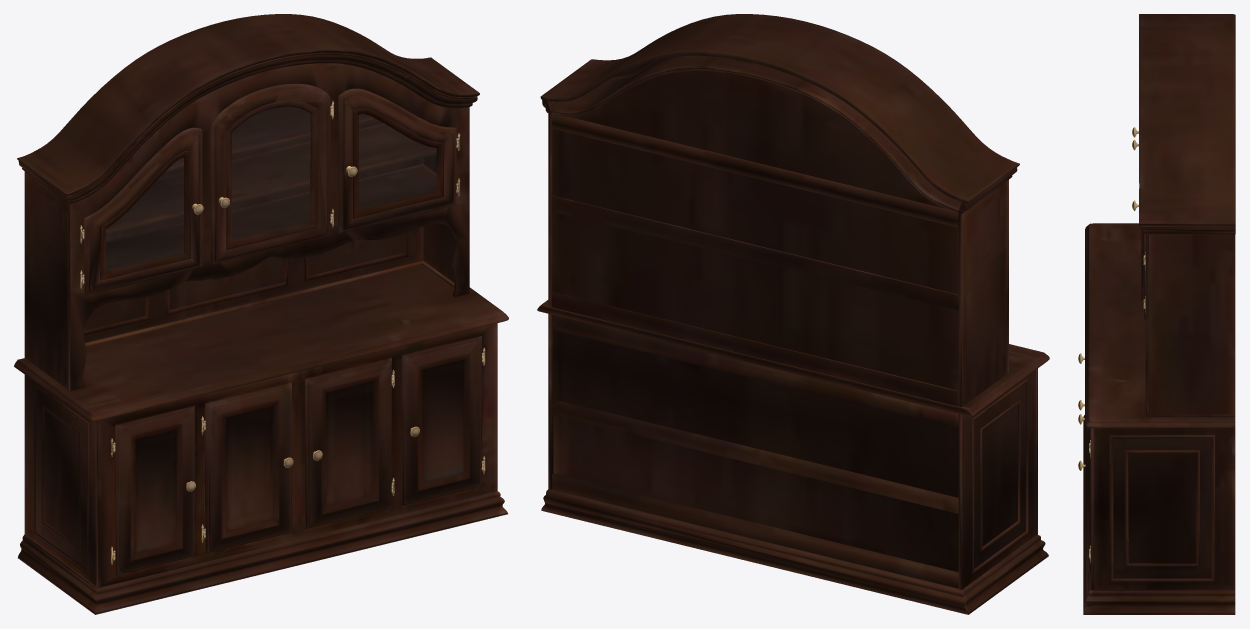
Rendered from vintage_cabinet_01.glb.
3 views of the same model, side by side, from view 1: azimuth 30°, elevation 25°; view 2: azimuth 150°, elevation 25°; view 3: azimuth 270°, elevation 25° (orthographic). The views are drawn at different scales.
Visible parts, largest first — view 1: vintage_cabinet_01_body, vintage_cabinet_01_door_01; view 2: vintage_cabinet_01_body; view 3: vintage_cabinet_01_body.
Boxes of the visible parts, bbox=[...] form: vintage_cabinet_01_body: bbox=[14, 14, 508, 614]; vintage_cabinet_01_door_01: bbox=[106, 107, 436, 271]; vintage_cabinet_01_body: bbox=[537, 14, 1049, 614]; vintage_cabinet_01_body: bbox=[1078, 14, 1235, 614].
Bounding box in the file's own units: 2.02 × 2.24 × 0.6699.
3 materials, 2 textured.
